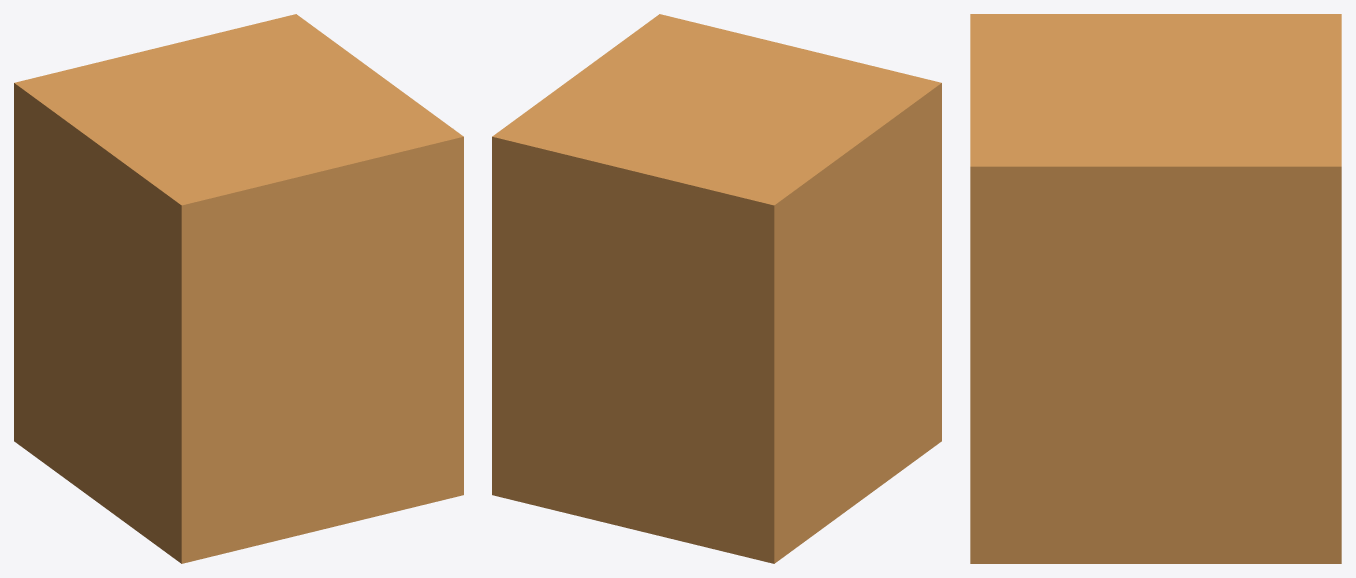
The model's file is ConnectingCupboardU.fbx.
The picture shows the model from 3 angles, left to right: view 1: azimuth 30°, elevation 25°; view 2: azimuth 150°, elevation 25°; view 3: azimuth 270°, elevation 25°; orthographic projection. The views are drawn at different scales.
Parts seen in each view (by area): view 1: Corner Cupboard.001; view 2: Corner Cupboard.001; view 3: Corner Cupboard.001.
Boxes of the visible parts, left/top/right/bottom form: Corner Cupboard.001: left=14, top=14, right=463, bottom=563; Corner Cupboard.001: left=492, top=14, right=941, bottom=563; Corner Cupboard.001: left=970, top=14, right=1341, bottom=563.
Bounding box in the file's own units: 113 × 116 × 137.
